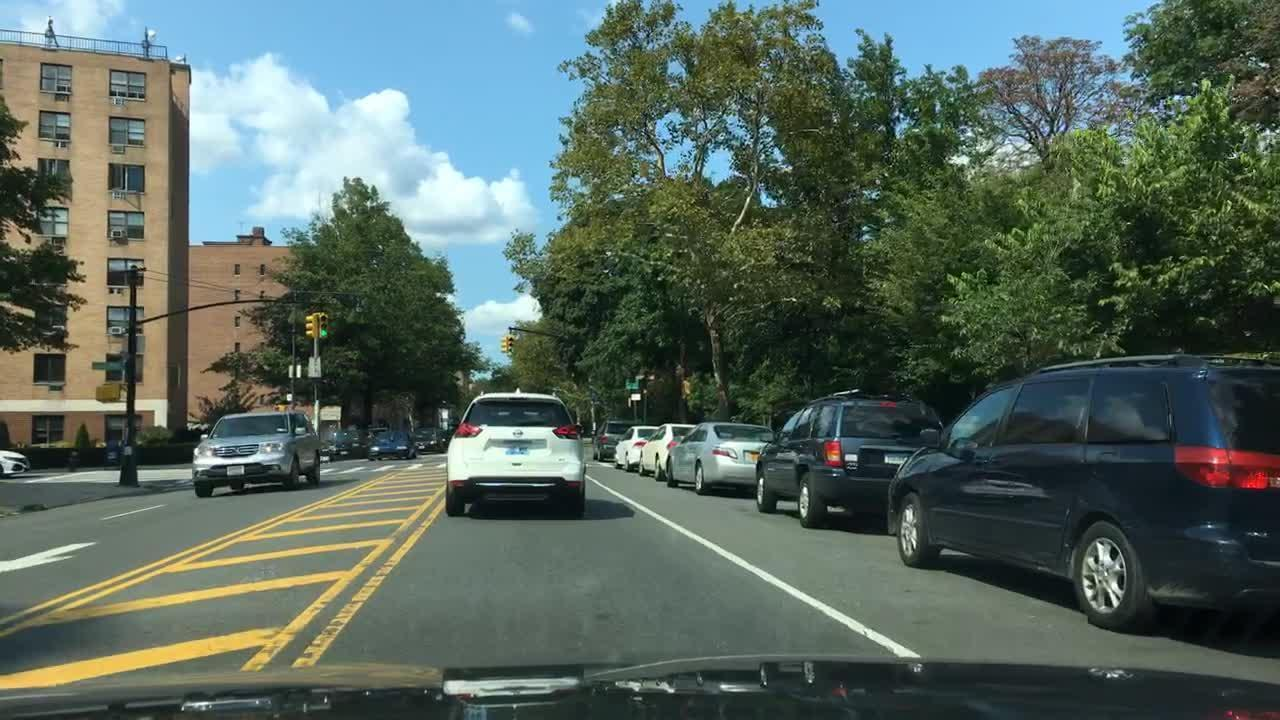Nissan: (508, 423, 529, 442)
